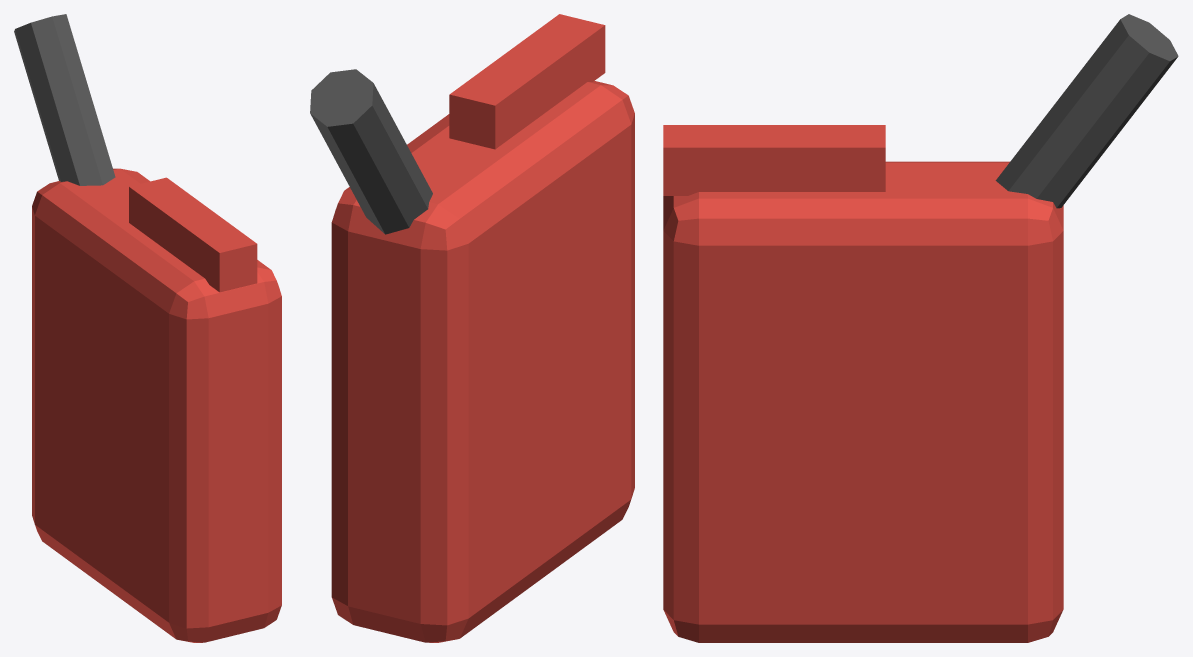
File: p_jerrycan.glb
The picture shows the model from 3 angles, left to right: view 1: azimuth 30°, elevation 25°; view 2: azimuth 150°, elevation 25°; view 3: azimuth 270°, elevation 25°; orthographic projection. The views are drawn at different scales.
Parts seen in each view (by area): view 1: p_jerrycan; view 2: p_jerrycan; view 3: p_jerrycan.
Boxes of the visible parts, box(x1,y1,x2,y2) form: p_jerrycan: box(14, 14, 281, 642); p_jerrycan: box(310, 14, 634, 642); p_jerrycan: box(663, 14, 1178, 642).
Size of the model in its own units: 0.035 by 0.1501 by 0.1159.
